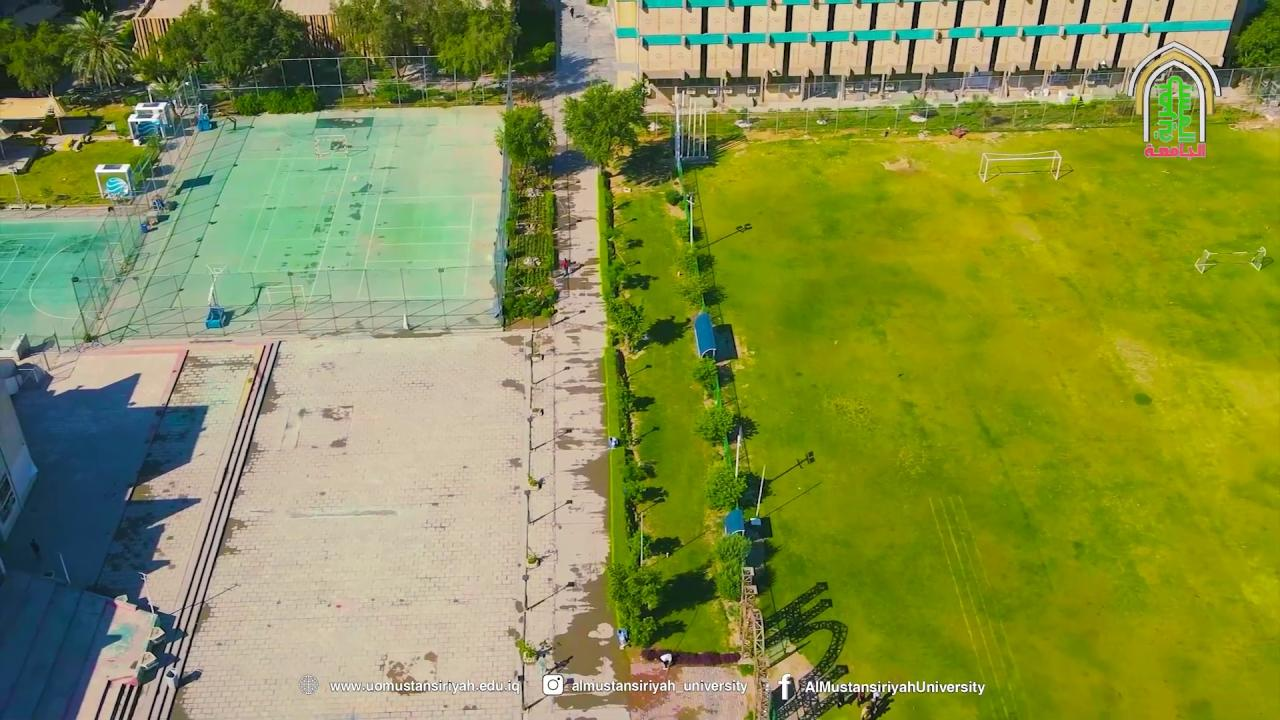person: (560, 257, 568, 275)
tree: (328, 0, 520, 102), (560, 76, 647, 294), (155, 0, 305, 105), (492, 102, 558, 328), (560, 77, 646, 171), (426, 1, 520, 83), (58, 6, 131, 92), (155, 3, 216, 100), (605, 560, 664, 648), (3, 17, 67, 98), (330, 0, 390, 82), (672, 242, 727, 325), (493, 102, 557, 171), (1231, 0, 1279, 69), (707, 531, 752, 601), (601, 293, 650, 351), (705, 464, 747, 512), (693, 401, 735, 447), (690, 352, 721, 402)
